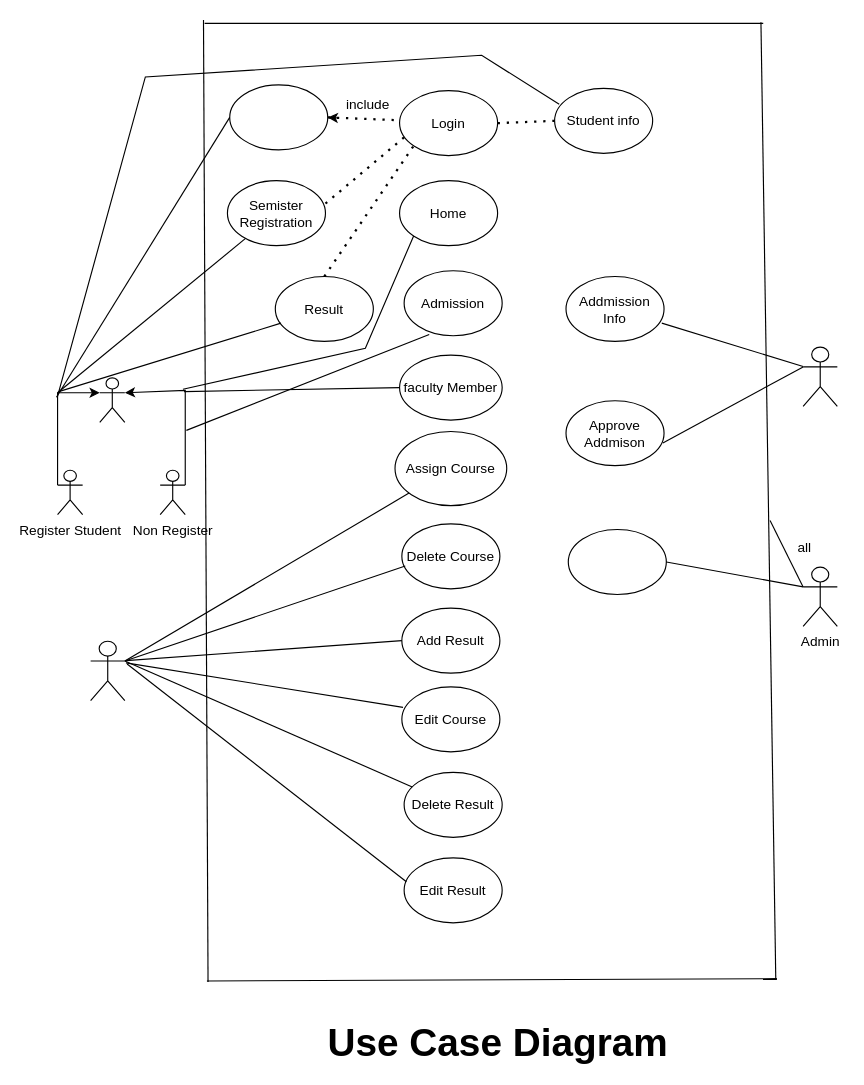
The diagram is 864 pixels wide and 1085 high, and some of its shapes have lost their labels. The shapes that lost their labels are listed below. From the top down, each one's box as (x1, y1, x2, y2) in pixels, then its label:
(229, 84, 328, 150): Online Registration
(802, 346, 837, 406): Account
(99, 377, 125, 422): Student
(567, 528, 666, 595): Assign teacher
(89, 640, 125, 701): Teacher
